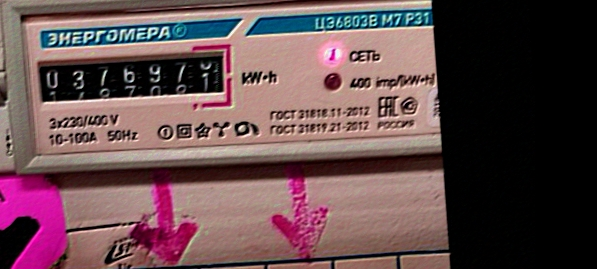0: (43, 68, 61, 90)
1: (200, 71, 212, 93)
3: (70, 68, 86, 92)
6: (122, 62, 137, 84)
7: (96, 63, 111, 88), (173, 60, 188, 84)
9: (147, 62, 162, 84)
screen: (30, 41, 238, 124)
